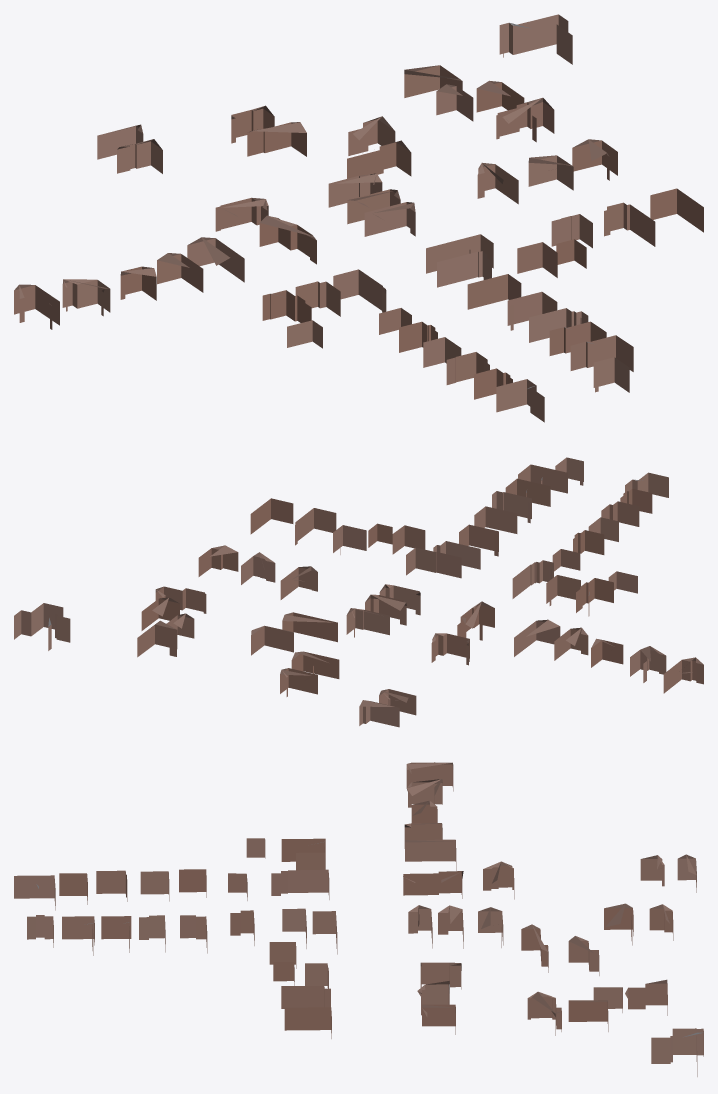
File: c_1637_17836_buildings_residential.glb
The picture shows the model from 3 angles, top to bottom: view 1: azimuth 30°, elevation 25°; view 2: azimuth 150°, elevation 25°; view 3: azimuth 270°, elevation 25°; orthographic projection. The views are drawn at different scales.
Parts seen in each view (by area): view 1: geometry_0; view 2: geometry_0; view 3: geometry_0.
Part boxes in pixels (x1,y1,x2,y2): geometry_0: (14,14,703,422); geometry_0: (14,457,703,727); geometry_0: (14,762,703,1076).
Size of the model in its own units: 268 by 12.83 by 261.
